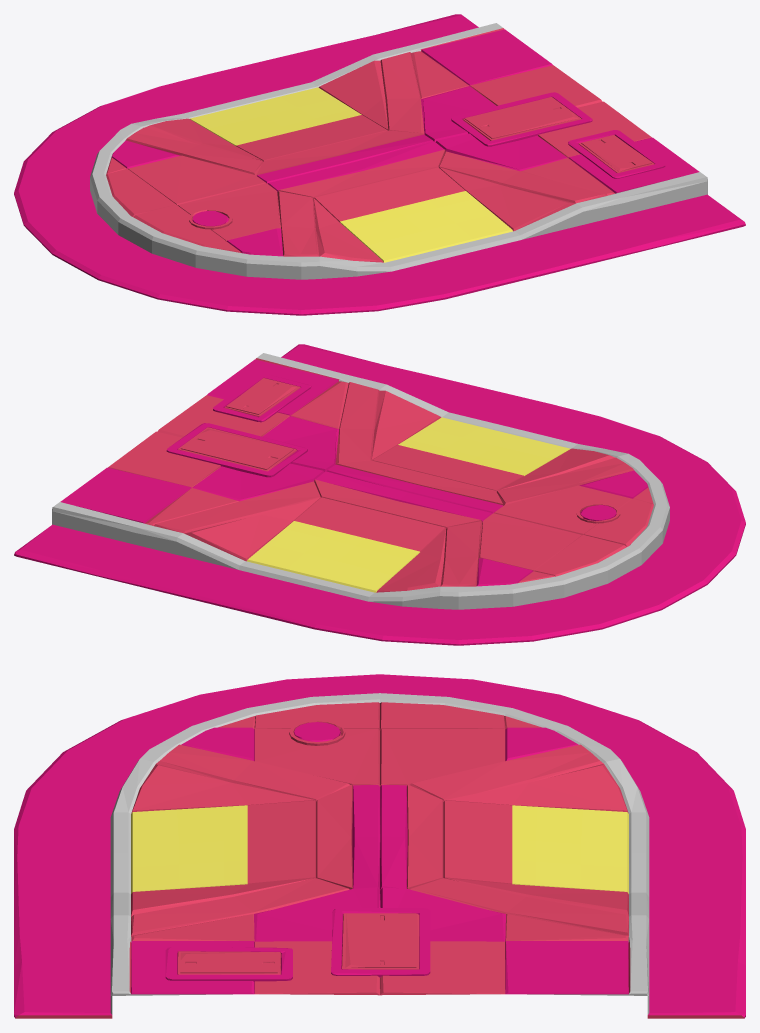
Rendered from Sidewalk_Divider00.fbx.
3 views of the same model, one above another, from view 1: azimuth 30°, elevation 25°; view 2: azimuth 150°, elevation 25°; view 3: azimuth 270°, elevation 25° (orthographic). The views are drawn at different scales.
Visible parts, largest first — view 1: SM_Sidewalk_Divider_01a.mo; view 2: SM_Sidewalk_Divider_01a.mo; view 3: SM_Sidewalk_Divider_01a.mo.
Part boxes in pixels (x1,y1,x2,y2): SM_Sidewalk_Divider_01a.mo: (14,14,745,315); SM_Sidewalk_Divider_01a.mo: (14,344,745,645); SM_Sidewalk_Divider_01a.mo: (14,674,745,1018).
Bounding box in the file's own units: 820 × 31.71 × 741.
